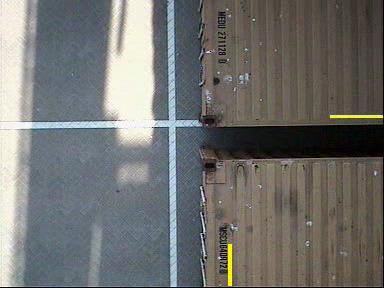groundmarker_2: (145, 119, 201, 159)
